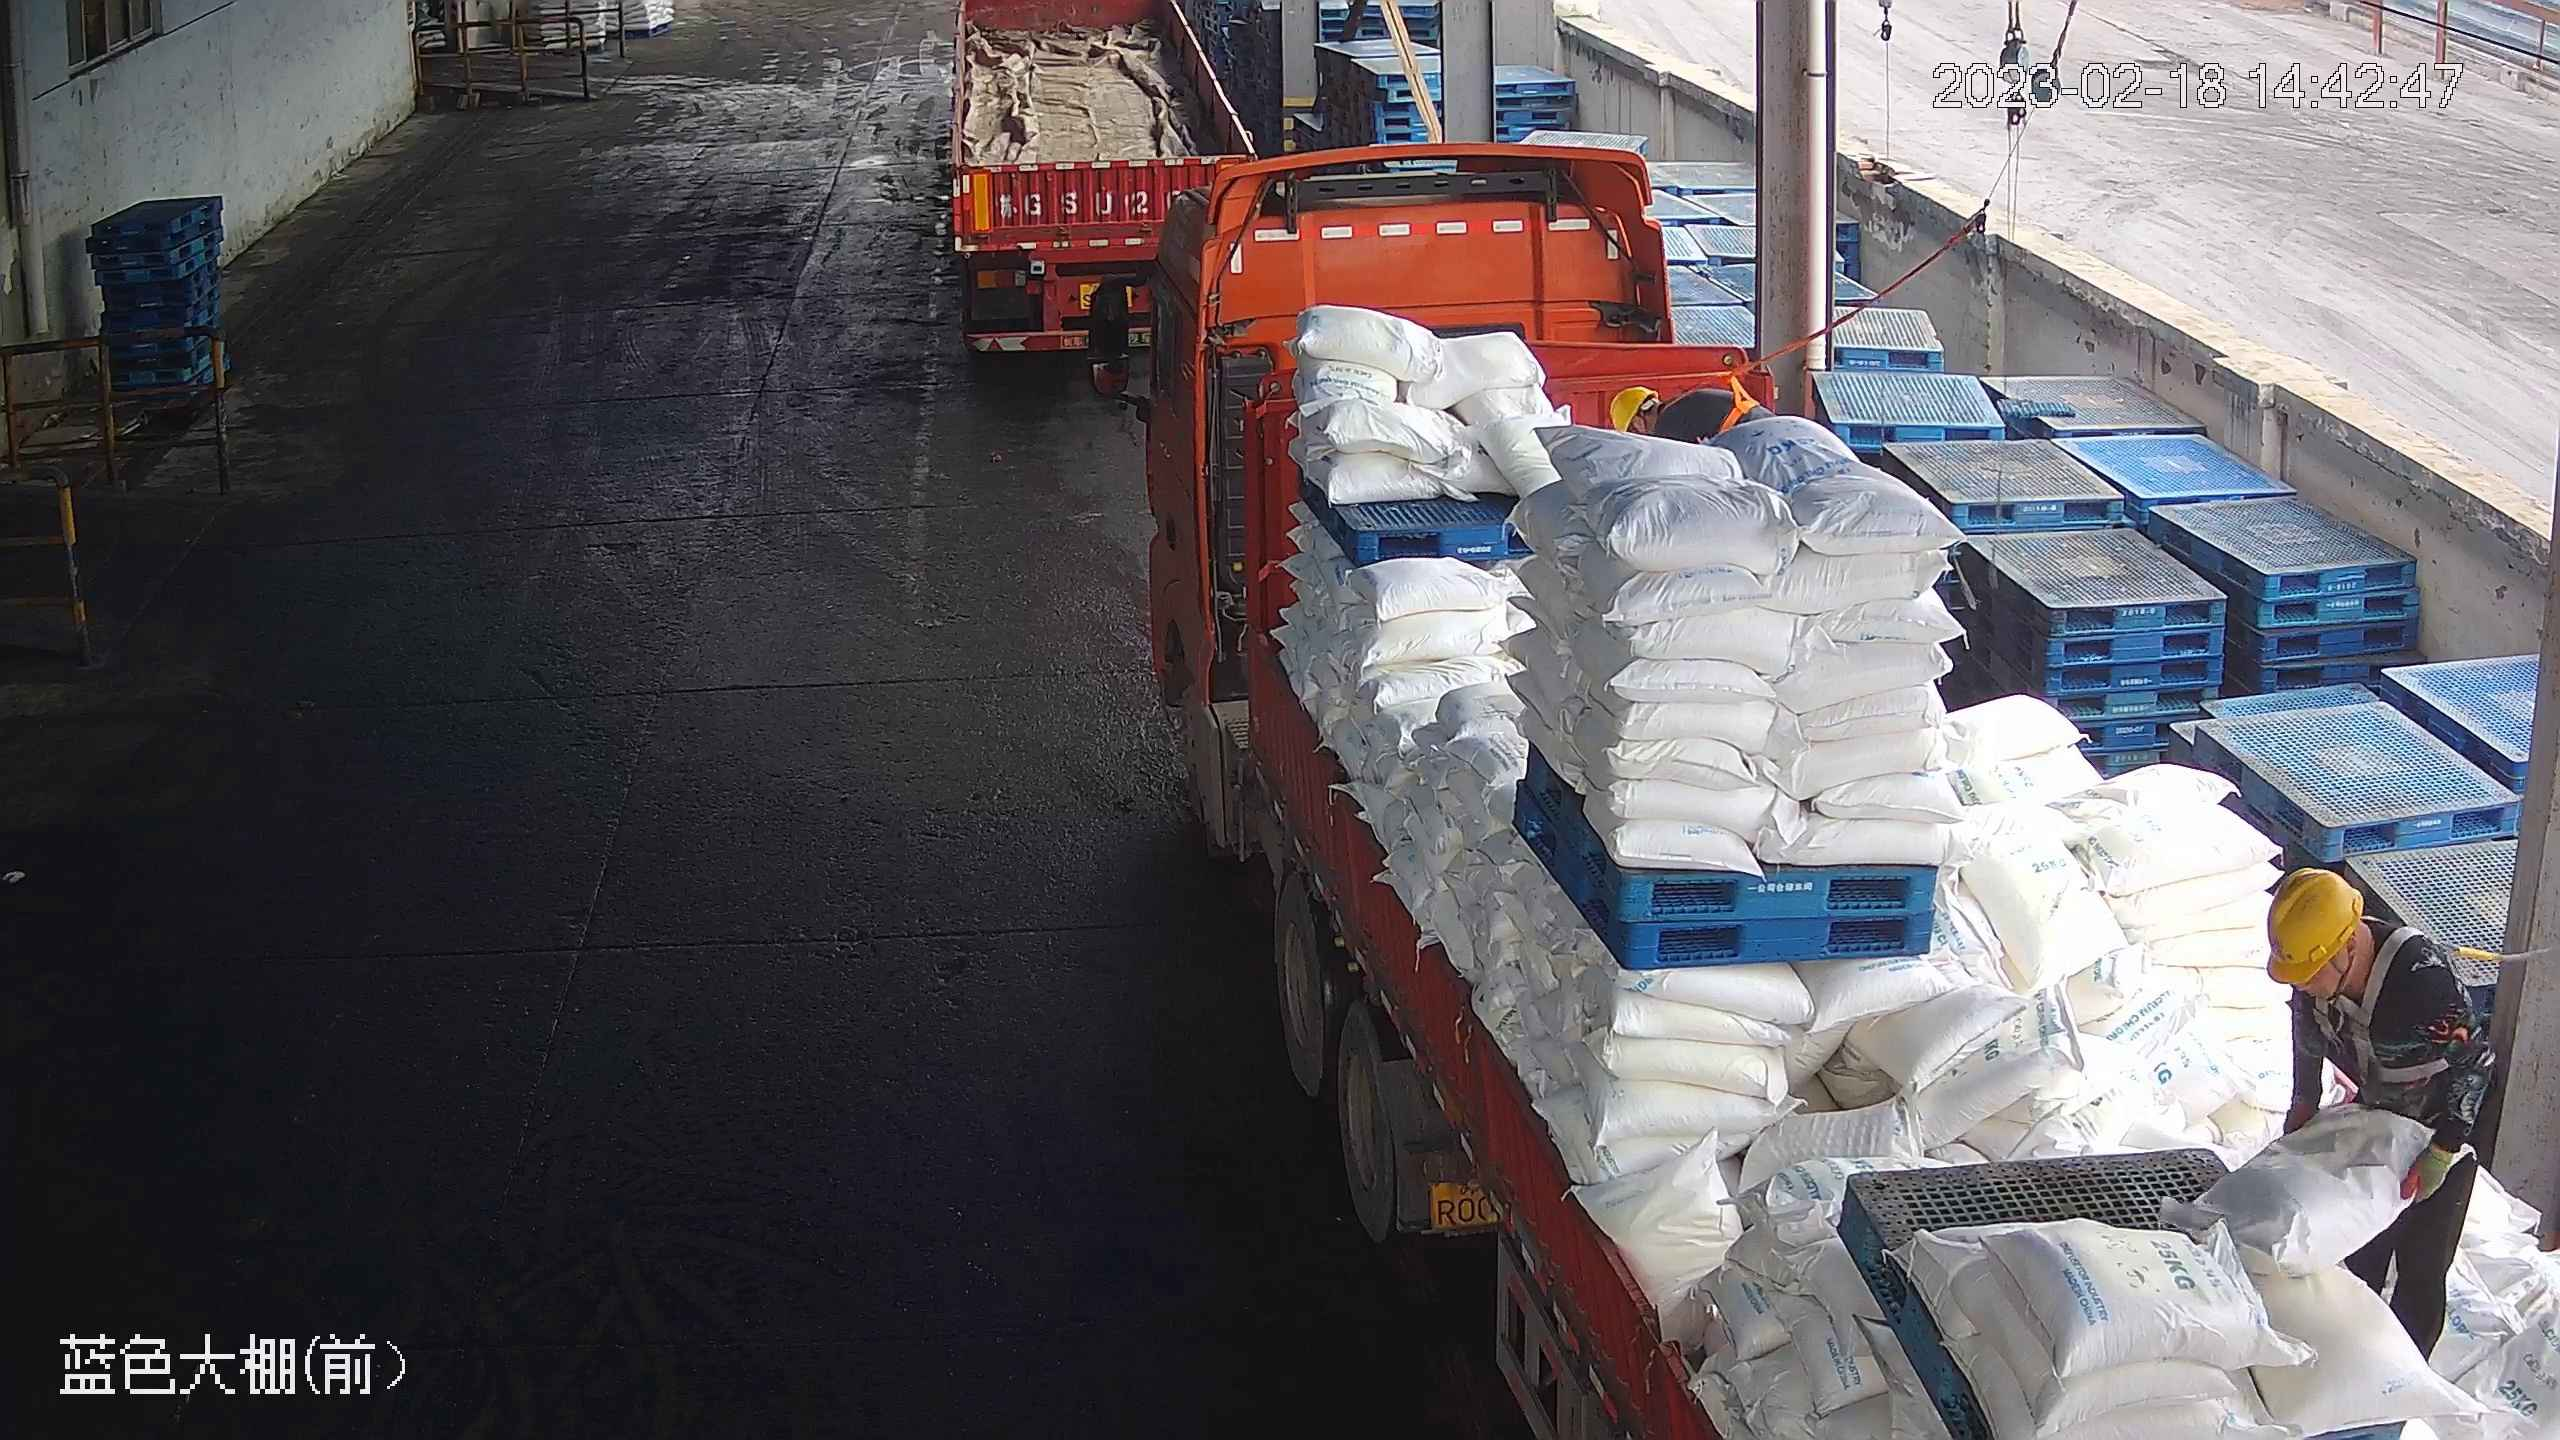belt: (2324, 922, 2490, 1087), (1690, 370, 1754, 434)
head: (2260, 866, 2462, 1029), (1607, 380, 1749, 446)
helmet: (2256, 864, 2366, 987), (1606, 382, 1654, 436)
people: (2256, 863, 2495, 1368)
truck: (1086, 138, 2549, 1440), (946, 1, 1267, 353)
